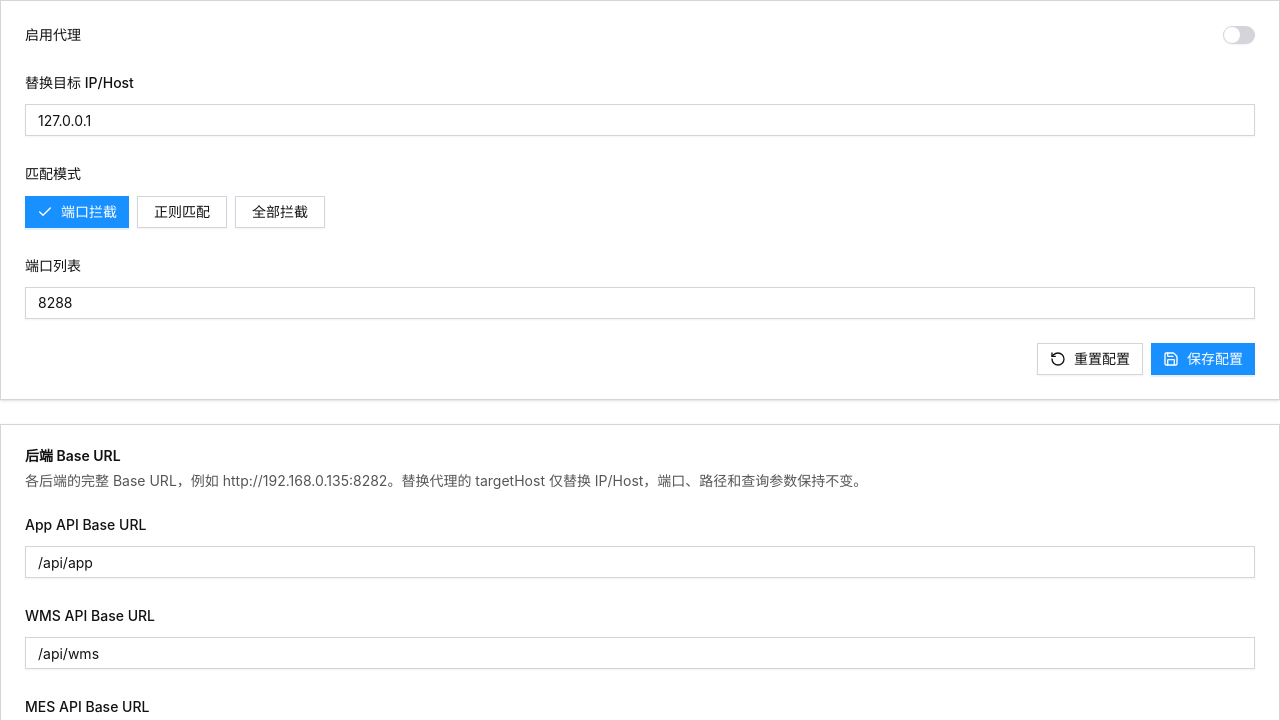
Test: DebugIpRewriteProxyPage › shows a warning and disables save when enabled with relative base URLs
Click the switch named "启用代理" at (1239, 35), box [1223,26,1255,44]
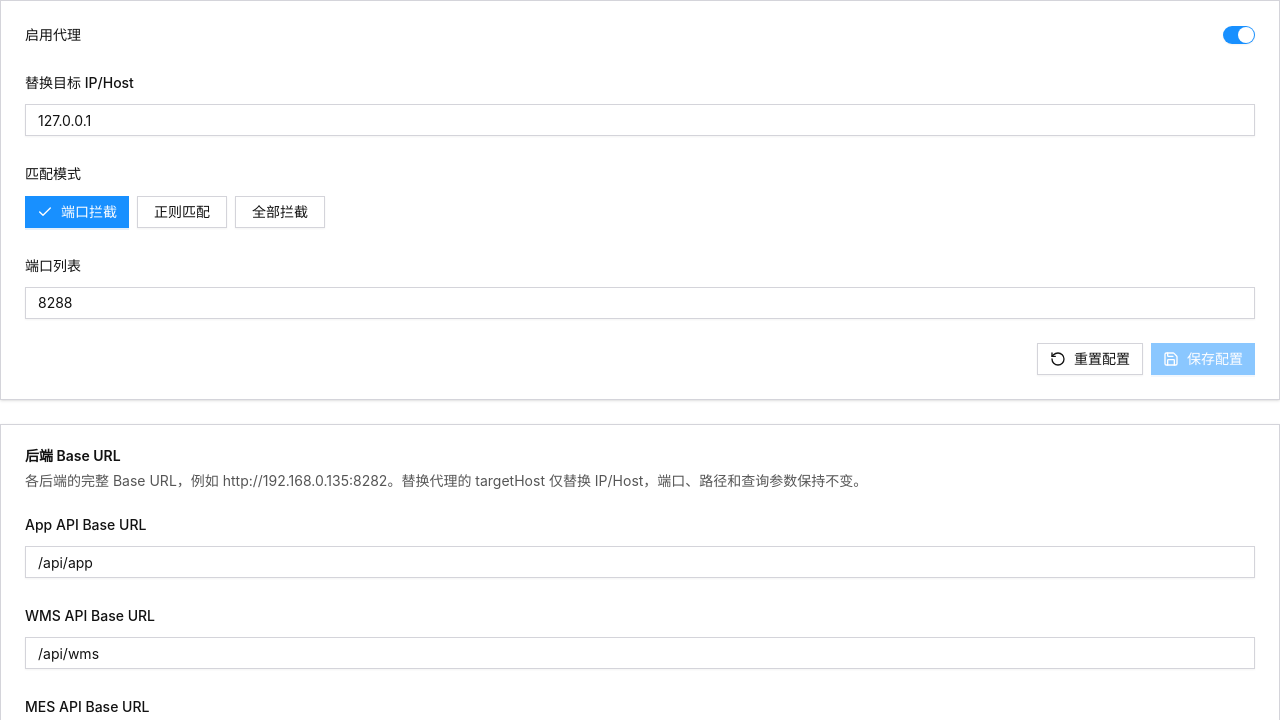
Expected: the button "保存配置" is disabled, [1151,343,1255,375]
